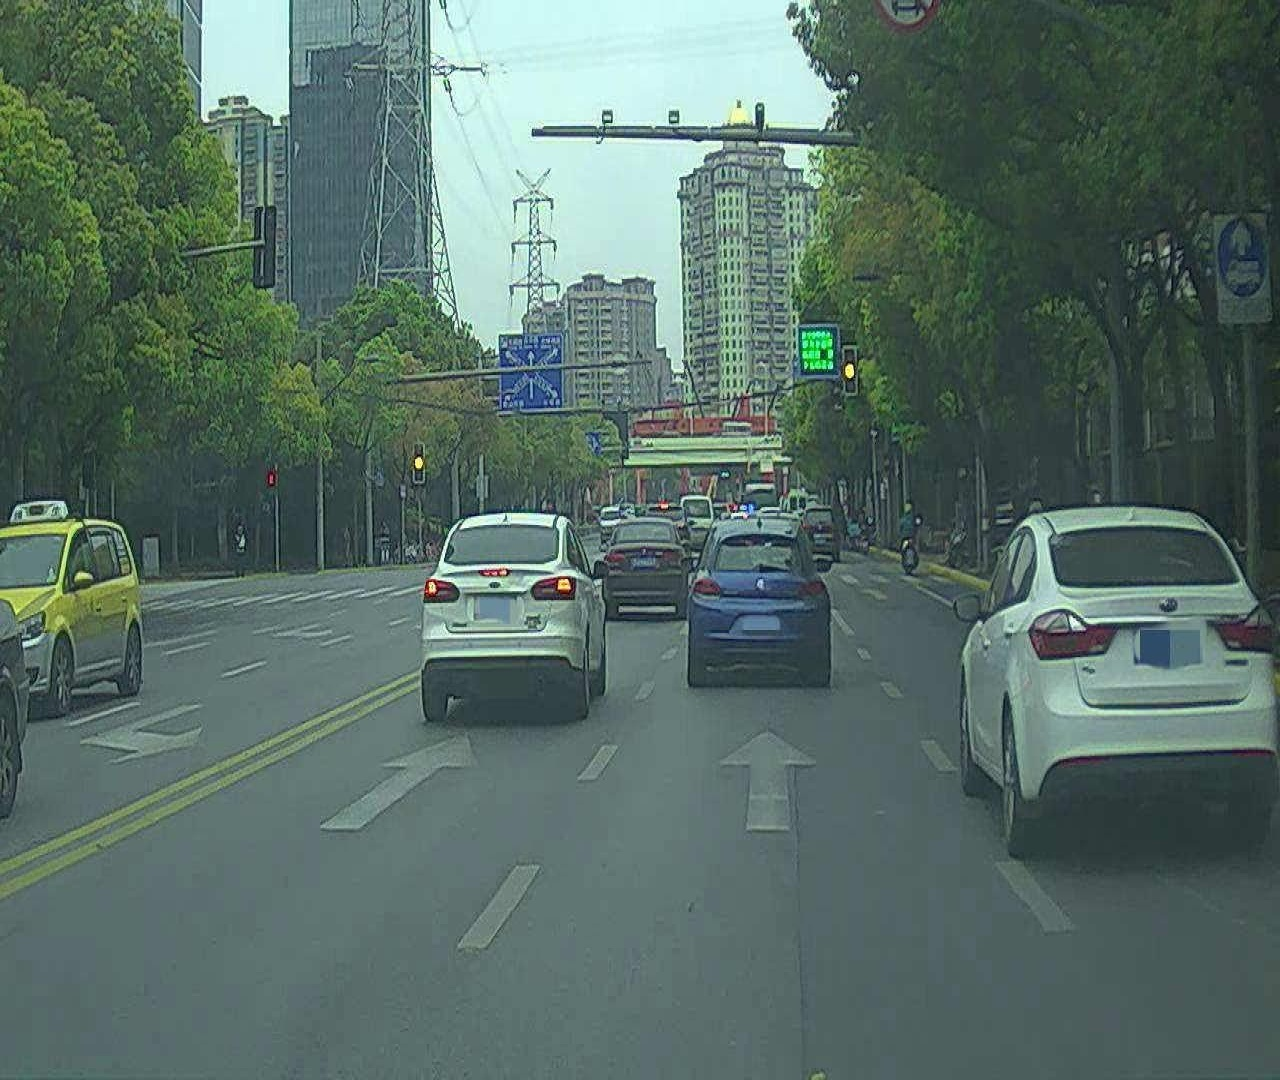yellow: (410, 441, 427, 484), (845, 342, 857, 393)
